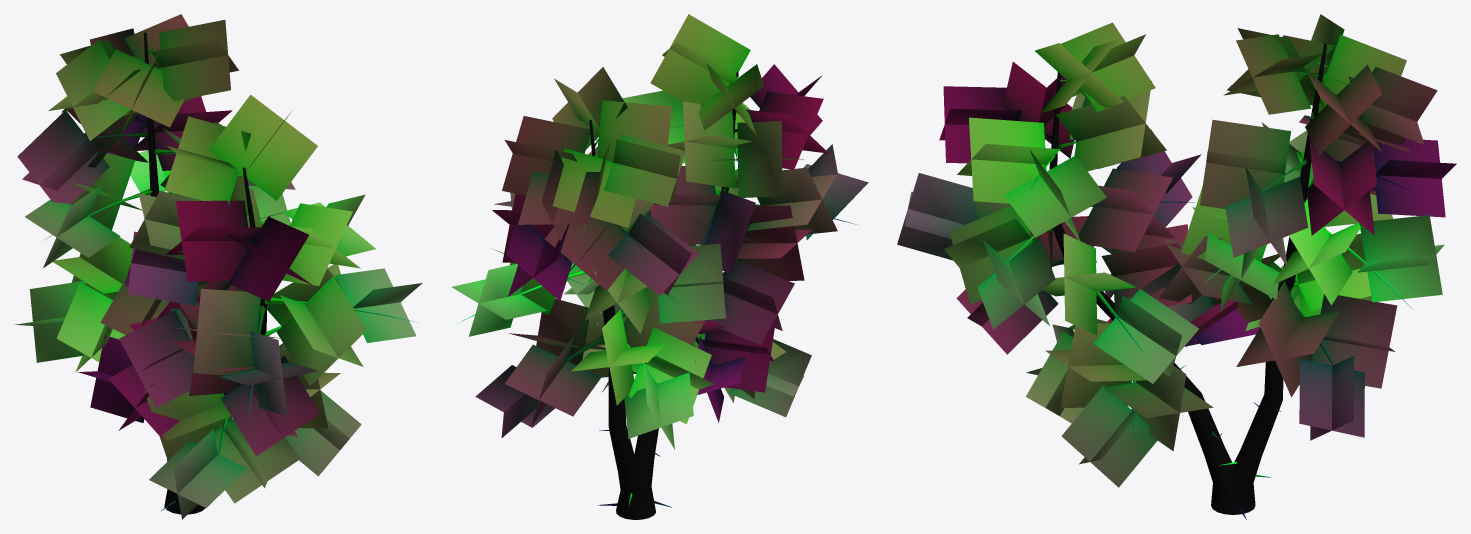
The model's file is M_P7_Tree_7.fbx.
3 views of the same model, side by side, from view 1: azimuth 30°, elevation 25°; view 2: azimuth 150°, elevation 25°; view 3: azimuth 270°, elevation 25° (orthographic). The views are drawn at different scales.
Parts seen in each view (by area): view 1: Tree_7; view 2: Tree_7; view 3: Tree_7.
Part boxes in pixels (x1=…): Tree_7: x1=14, y1=14, x2=422, y2=519; Tree_7: x1=451, y1=14, x2=868, y2=519; Tree_7: x1=897, y1=14, x2=1456, y2=519.
Size of the model in its own units: 232 by 401 by 422.
